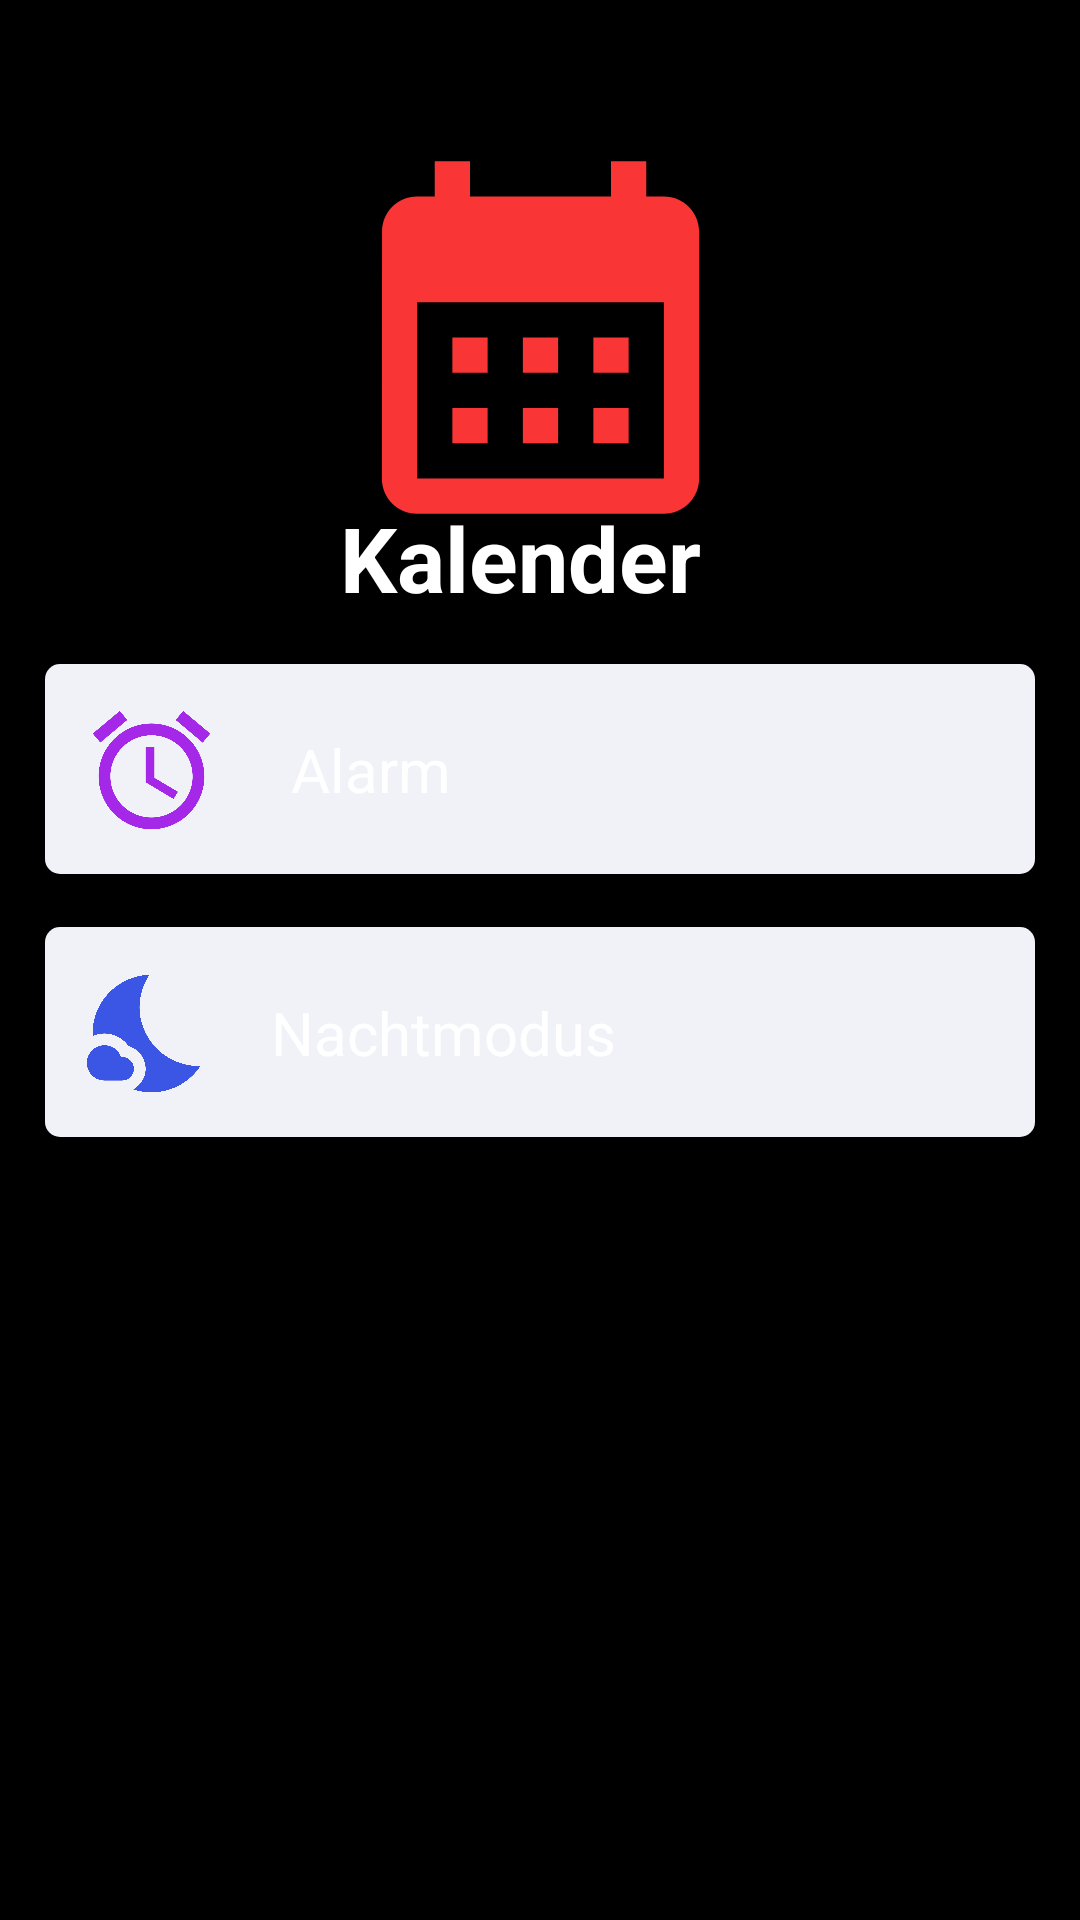

Where to tap for icons on this 1080×1920 app screen, as (x=x, y=y):
nightmode: (x=143, y=1033)
